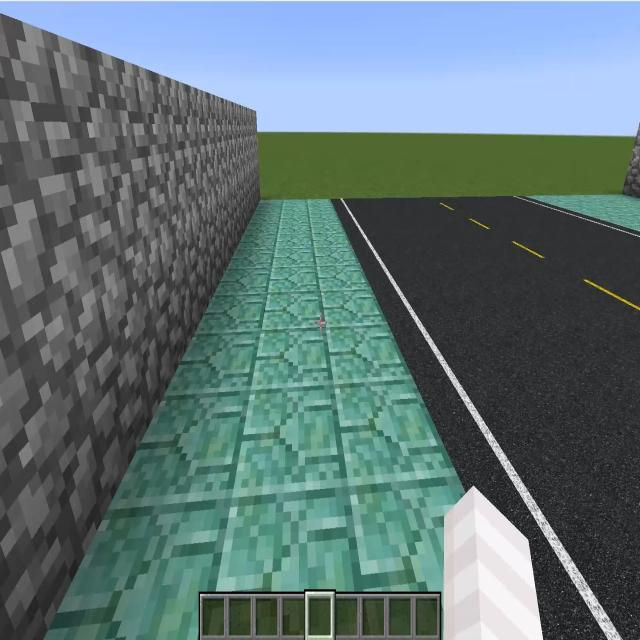road: (333, 196, 640, 639)
sidewalk: (43, 201, 465, 639), (531, 194, 640, 231)
